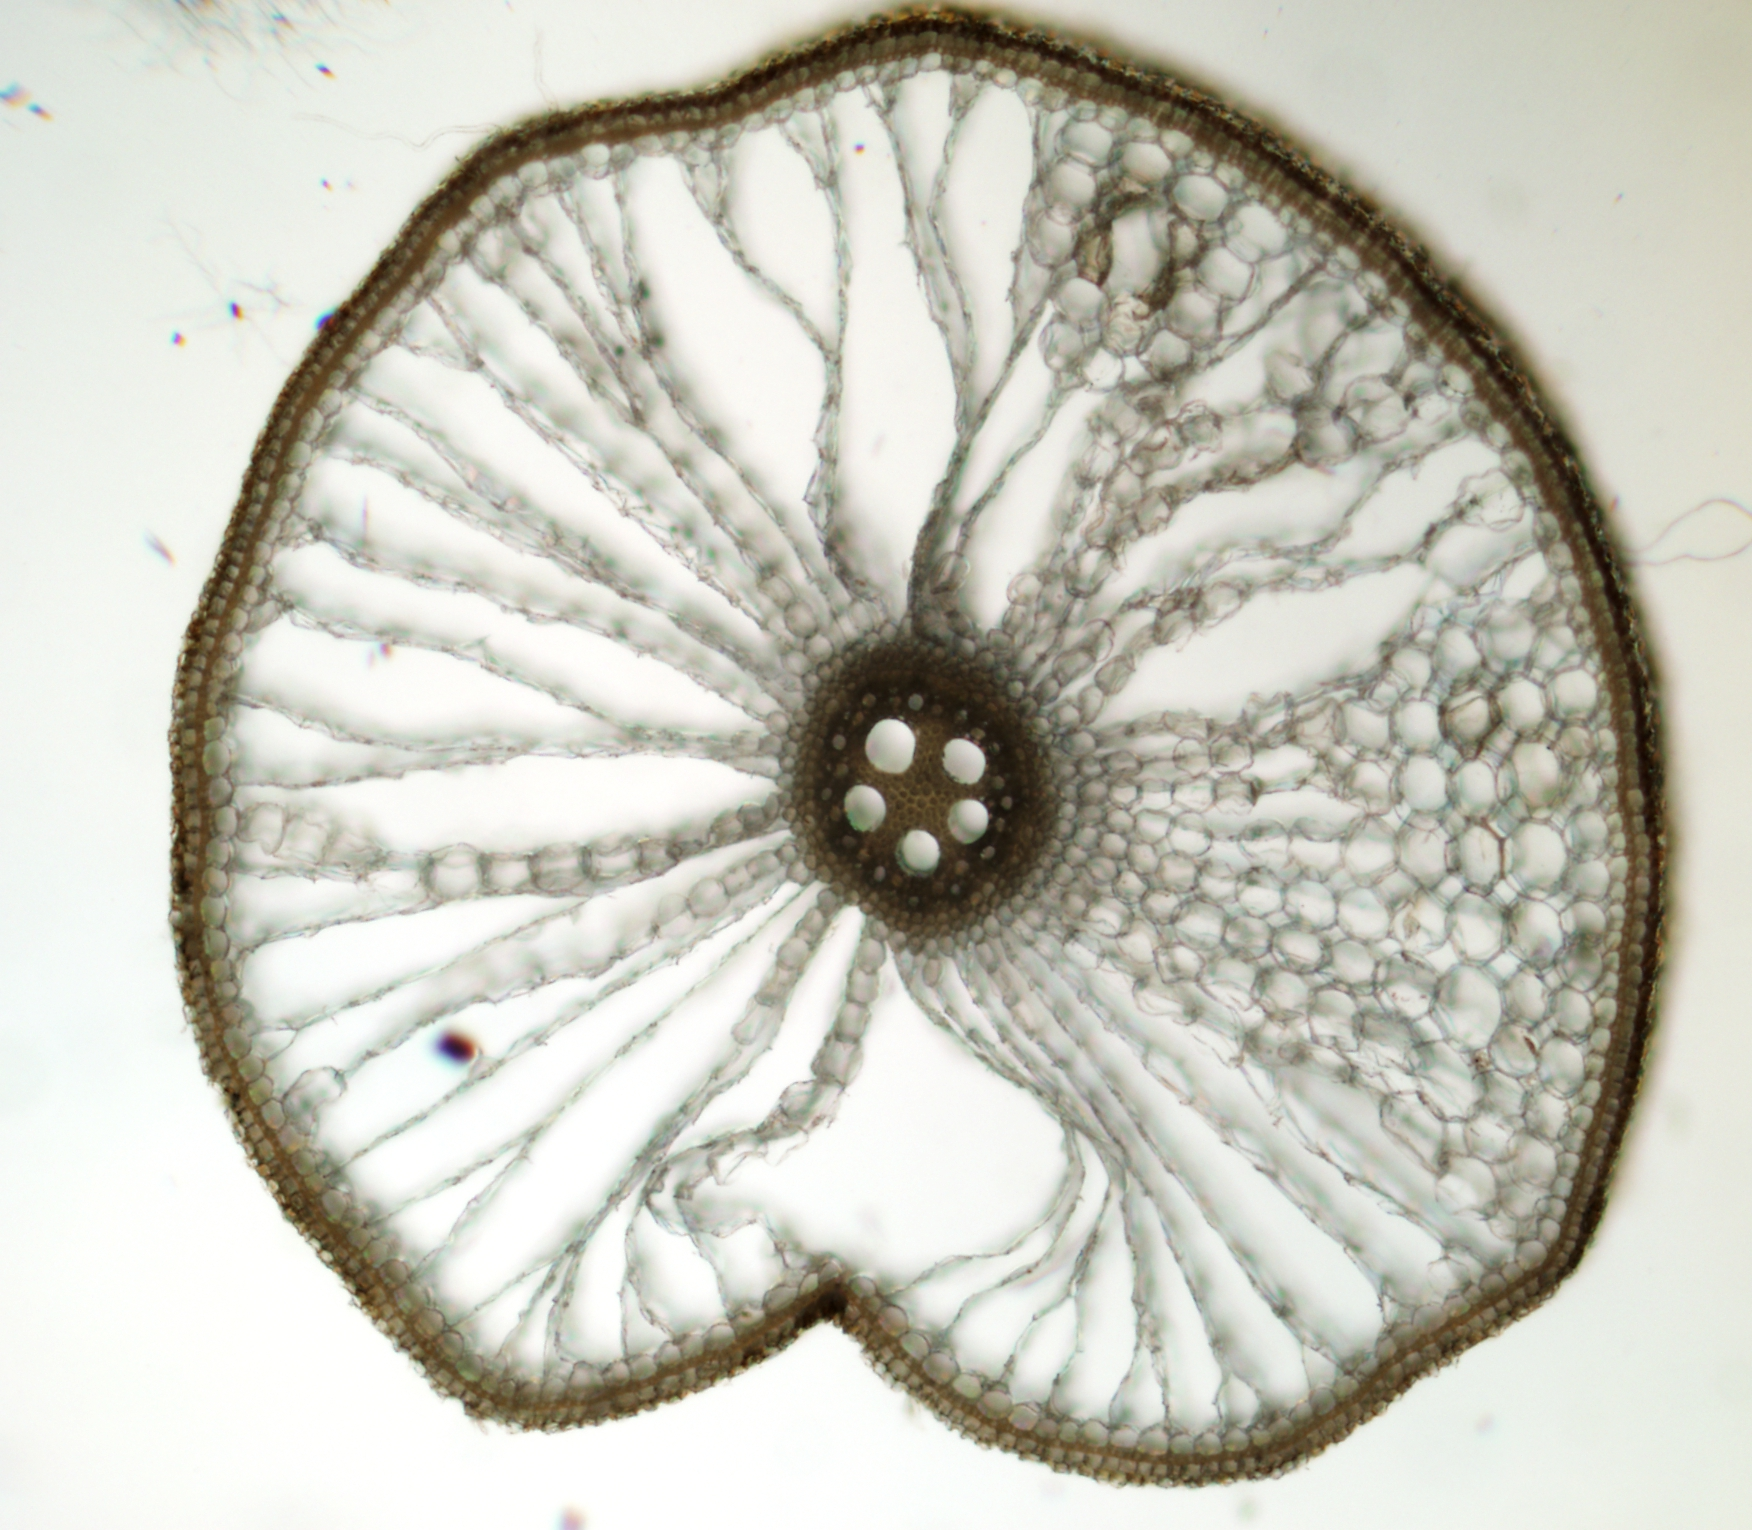lm: (866, 720, 915, 773), (895, 828, 939, 877), (942, 736, 985, 784), (845, 784, 886, 831), (948, 799, 988, 843)
